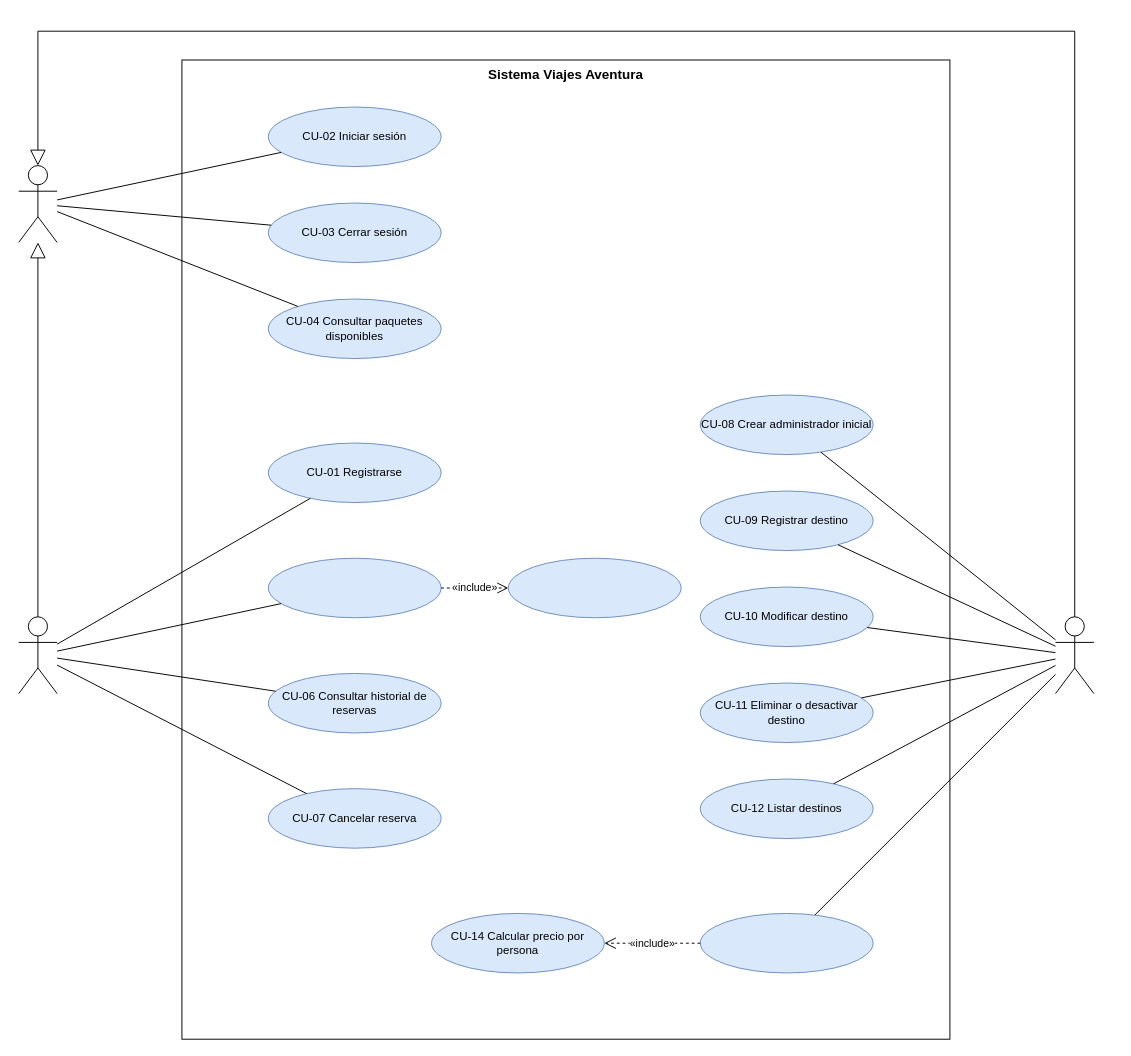
The diagram is 1131 pixels wide and 1056 high, and some of its shapes have lost their labels. Here are the shapes that lost their labels. From the top down, the box of each, then its label:
(18, 165, 57, 242): Usuario
(267, 557, 441, 618): CU-05 Reservar paquete
(507, 557, 681, 618): CU-15 Verificar cupo y fecha
(18, 616, 57, 694): Cliente
(1055, 616, 1094, 694): Administrador
(699, 912, 873, 973): CU-13 Crear paquete
